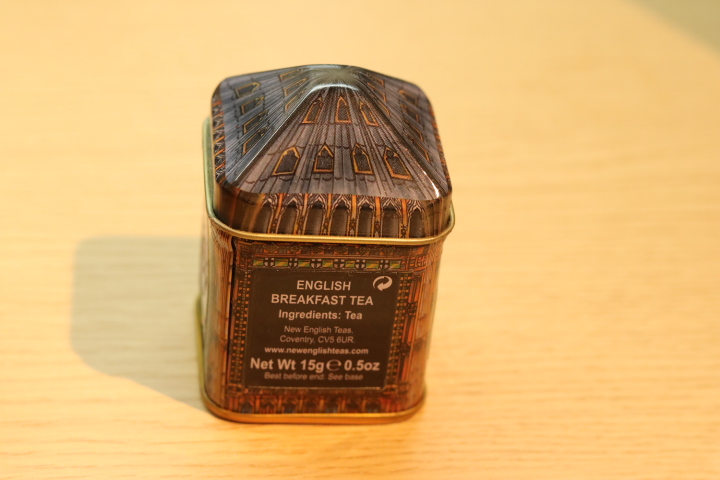Big Ben: (183, 46, 469, 445)
